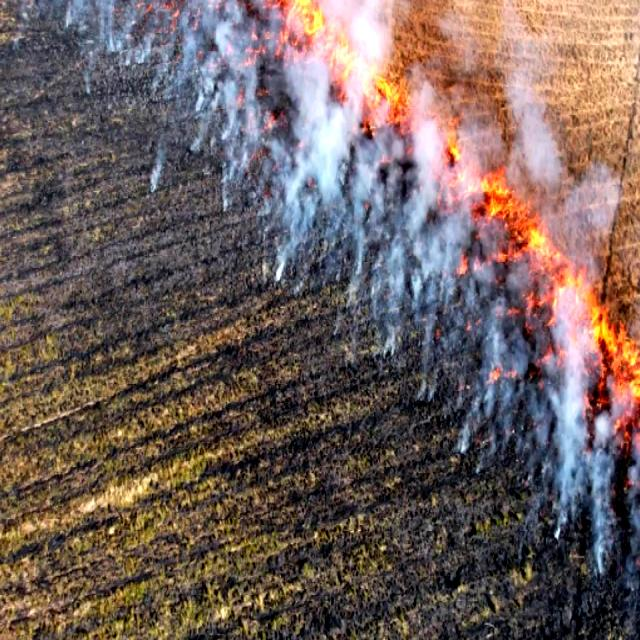fire: (279, 0, 423, 136)
smoke: (273, 35, 357, 326), (153, 0, 266, 207), (540, 190, 597, 580)
